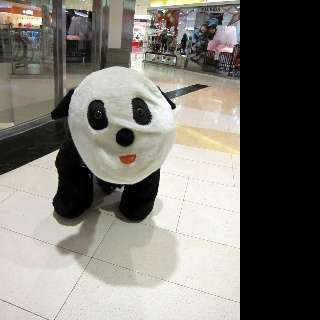without_mask: (201, 26, 207, 33), (208, 29, 214, 34)
